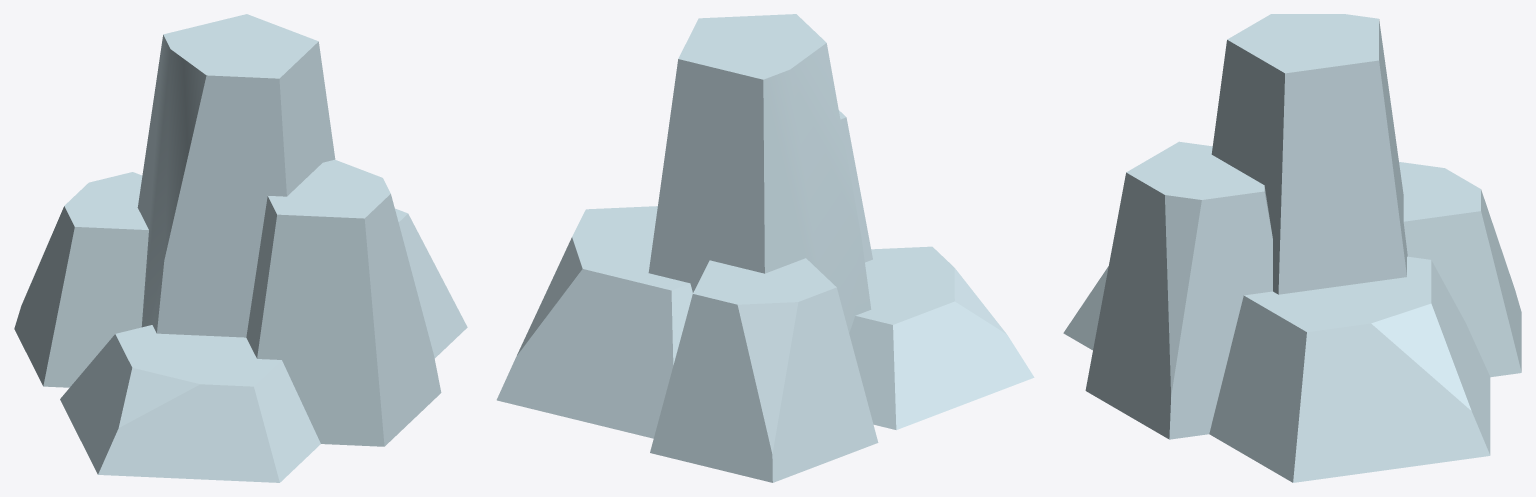
3 views of the same model, side by side, from view 1: azimuth 30°, elevation 25°; view 2: azimuth 150°, elevation 25°; view 3: azimuth 270°, elevation 25° (orthographic). The views are drawn at different scales.
Visible parts, largest first — view 1: rockLarge; view 2: rockLarge; view 3: rockLarge.
Boxes of the visible parts, box(x1,y1,x2,y2) form: rockLarge: box(14, 14, 467, 482); rockLarge: box(496, 14, 1034, 482); rockLarge: box(1063, 14, 1521, 482).
Bounding box in the file's own units: 1.6 × 1.16 × 1.45.
